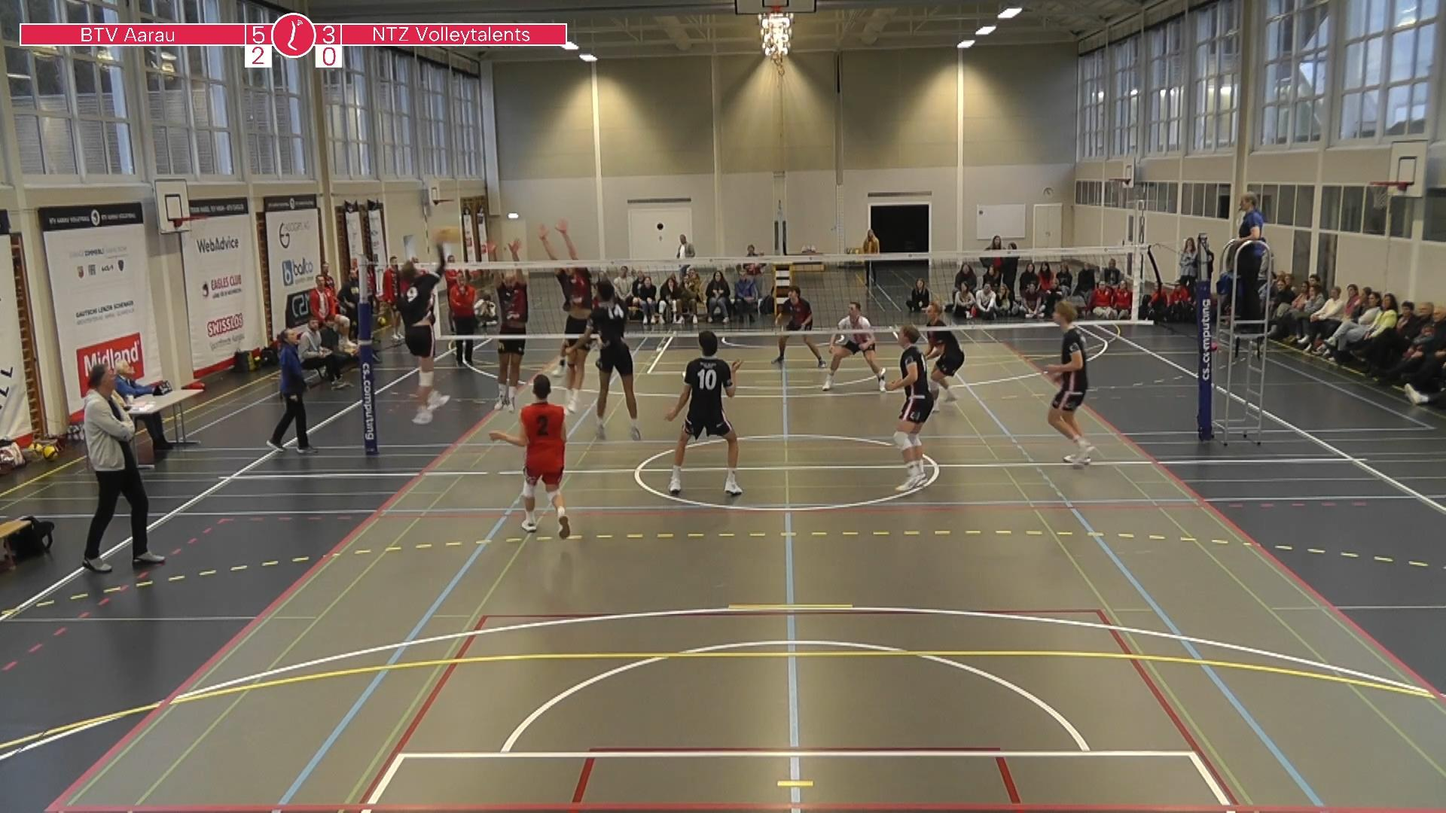attacco: (390, 231, 454, 429)
muro: (540, 221, 594, 424), (483, 236, 525, 416)
